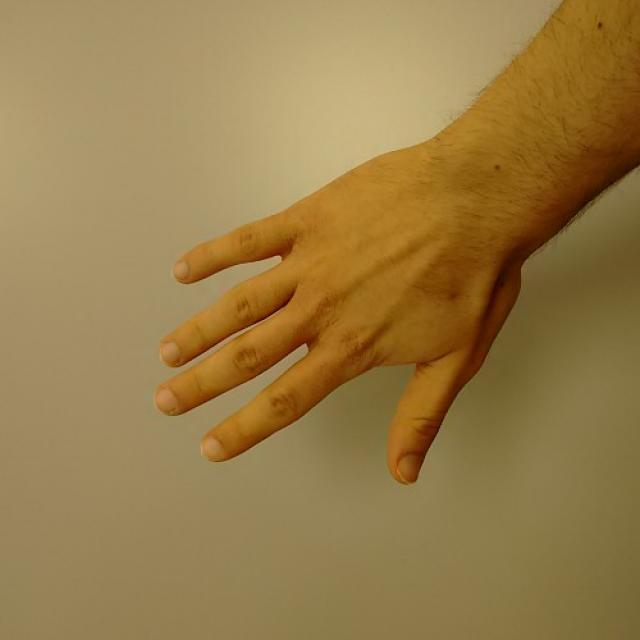paper: (150, 142, 524, 486)
